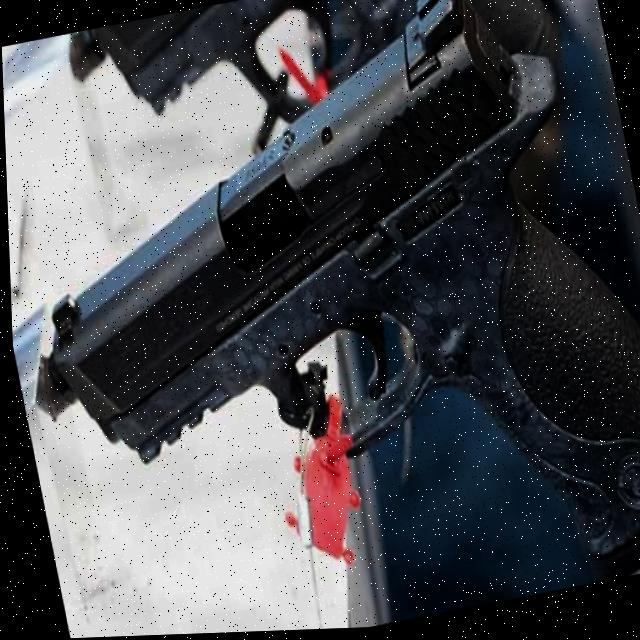pistol: (1, 0, 640, 640), (66, 0, 561, 149)
